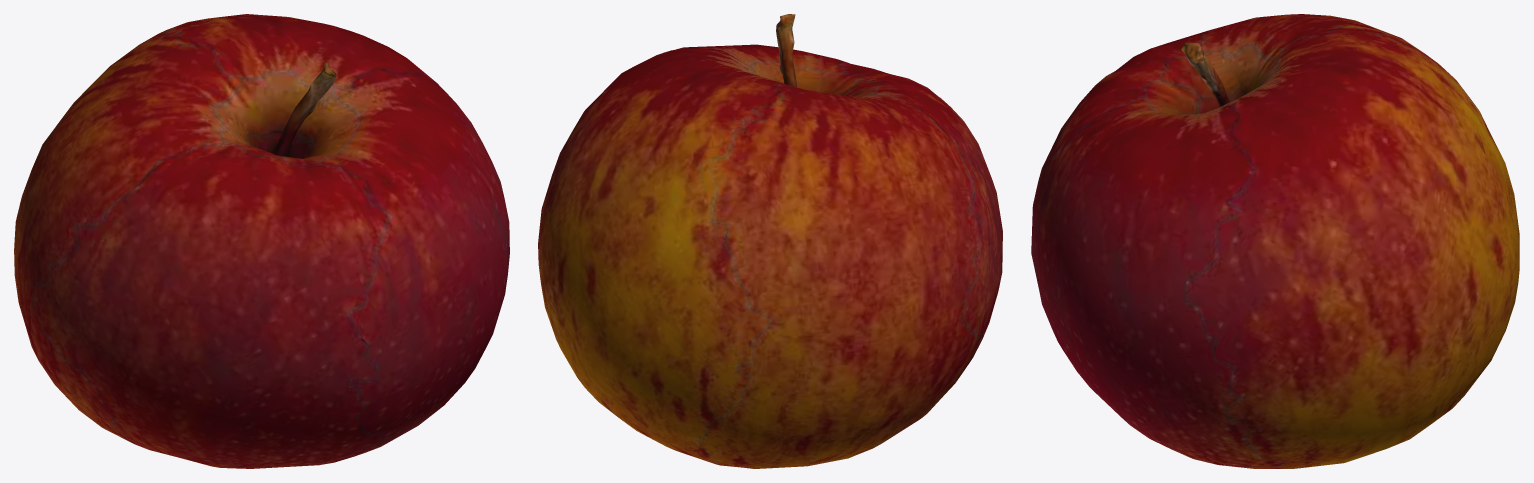
File: food_apple_01.glb
The picture shows the model from 3 angles, left to right: view 1: azimuth 30°, elevation 25°; view 2: azimuth 150°, elevation 25°; view 3: azimuth 270°, elevation 25°; orthographic projection. The views are drawn at different scales.
Parts seen in each view (by area): view 1: food_apple_01; view 2: food_apple_01; view 3: food_apple_01.
Boxes of the visible parts, x1,y1,x2,y2 form: food_apple_01: [14, 14, 509, 468]; food_apple_01: [538, 14, 1002, 468]; food_apple_01: [1031, 14, 1519, 468].
Size of the model in its own units: 0.0972 by 0.0854 by 0.0958.
1 material, 1 textured.
